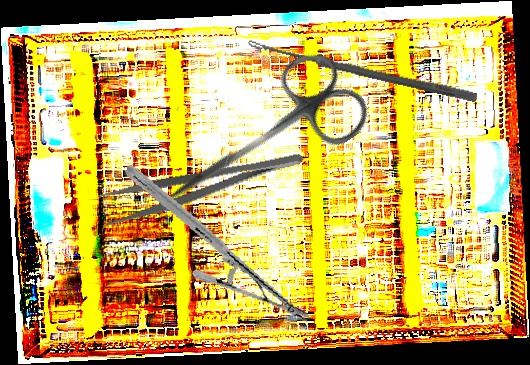Dressing Forceps: (97, 147, 309, 229)
Iris Scissors: (136, 40, 378, 247)
Needle Holder: (104, 163, 331, 325)
Surgical Spoon: (245, 38, 479, 103)
